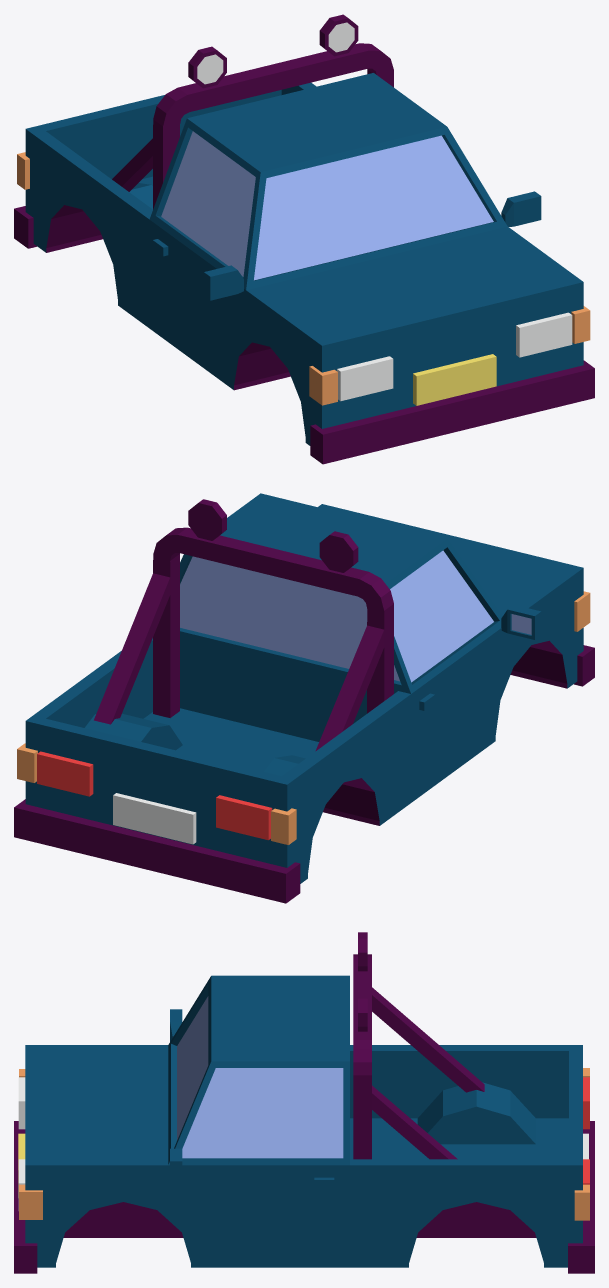
File: truck.fbx
3 renders of one model, top to bottom at view 1: azimuth 30°, elevation 25°; view 2: azimuth 150°, elevation 25°; view 3: azimuth 270°, elevation 25°, orthographic. The views are drawn at different scales.
Visible parts, largest first — view 1: car sample.001; view 2: car sample.001; view 3: car sample.001.
Part boxes in pixels (x1,y1,x2,y2): car sample.001: (14,14,594,464); car sample.001: (14,493,594,903); car sample.001: (14,932,594,1273).
Bounding box in the file's own units: 1.94 × 1.47 × 3.14.
